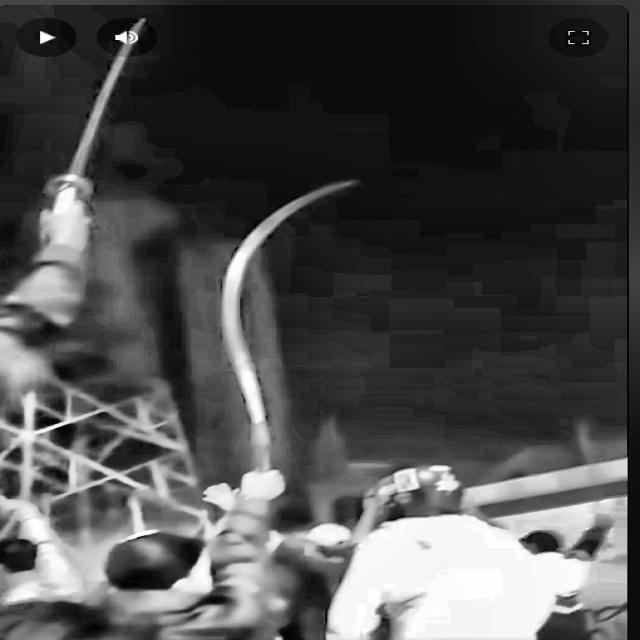celurit: (148, 170, 387, 552)
robbery: (0, 60, 627, 640)
